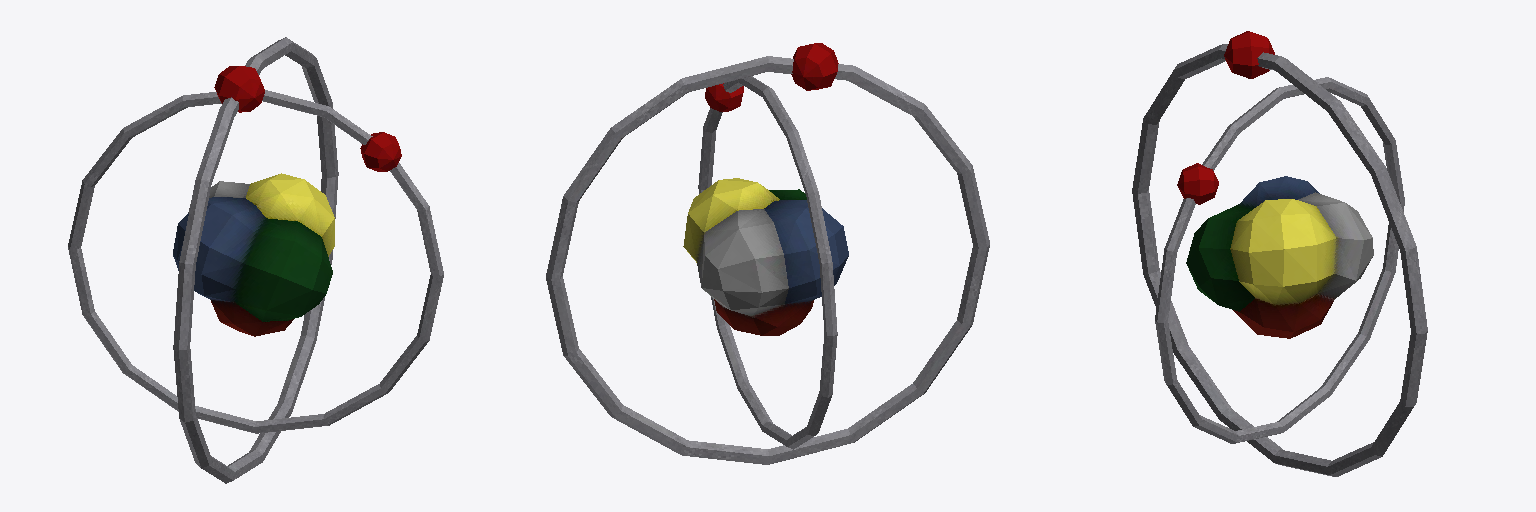
The picture shows the model from 3 angles: view 1: azimuth 30°, elevation 25°; view 2: azimuth 150°, elevation 25°; view 3: azimuth 270°, elevation 25°; orthographic projection.
Visible parts, largest first — view 1: unwrapped2, Object09, Object10, Object12, Object11; view 2: Object09, unwrapped2, Object10, Object12, Object11; view 3: unwrapped2, Object09, Object10, Object12, Object11.
Boxes of the visible parts, <box> form: unwrapped2: <box>173,173,334,336</box>; Object09: <box>173,37,338,483</box>; Object10: <box>68,90,443,433</box>; Object12: <box>214,66,264,112</box>; Object11: <box>360,132,401,171</box>; Object09: <box>546,56,989,464</box>; unwrapped2: <box>683,178,848,335</box>; Object10: <box>698,76,837,449</box>; Object12: <box>791,43,838,90</box>; Object11: <box>705,83,743,111</box>; unwrapped2: <box>1186,176,1373,338</box>; Object09: <box>1132,44,1427,476</box>; Object10: <box>1155,77,1404,443</box>; Object12: <box>1224,31,1274,78</box>; Object11: <box>1177,163,1218,204</box>.
Size of the model in its own units: 27.27 by 36.1 by 23.15.
Materials: 1 (1 with a texture image).